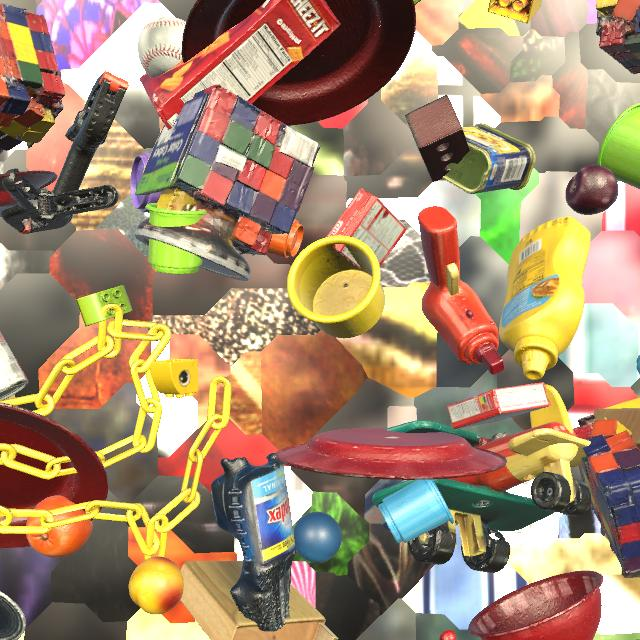ycb_002_master_chef_can: (0, 591, 26, 640)
ycb_003_cracker_box: (140, 0, 341, 130)
ycb_005_tomato_soup_can: (0, 332, 28, 401)
ycb_006_mustard_bottle: (499, 217, 591, 380)
ycb_009_gelatin_box: (326, 188, 407, 271), (447, 382, 551, 429)
ycb_010_potted_meat_can: (442, 123, 536, 194)
ycb_015_peach: (129, 557, 184, 615)
ycb_017_orange: (26, 496, 93, 557)
ycb_018_plum: (565, 165, 619, 215)
